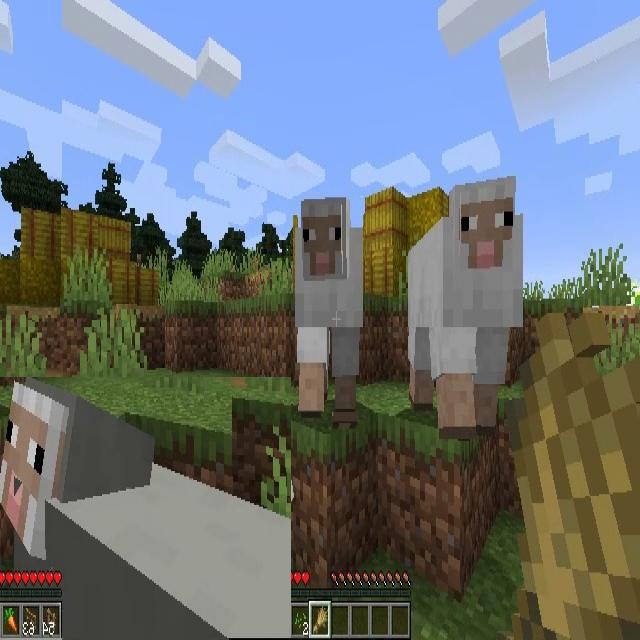sheep: (0, 377, 291, 638), (408, 176, 523, 436), (293, 196, 363, 412)
